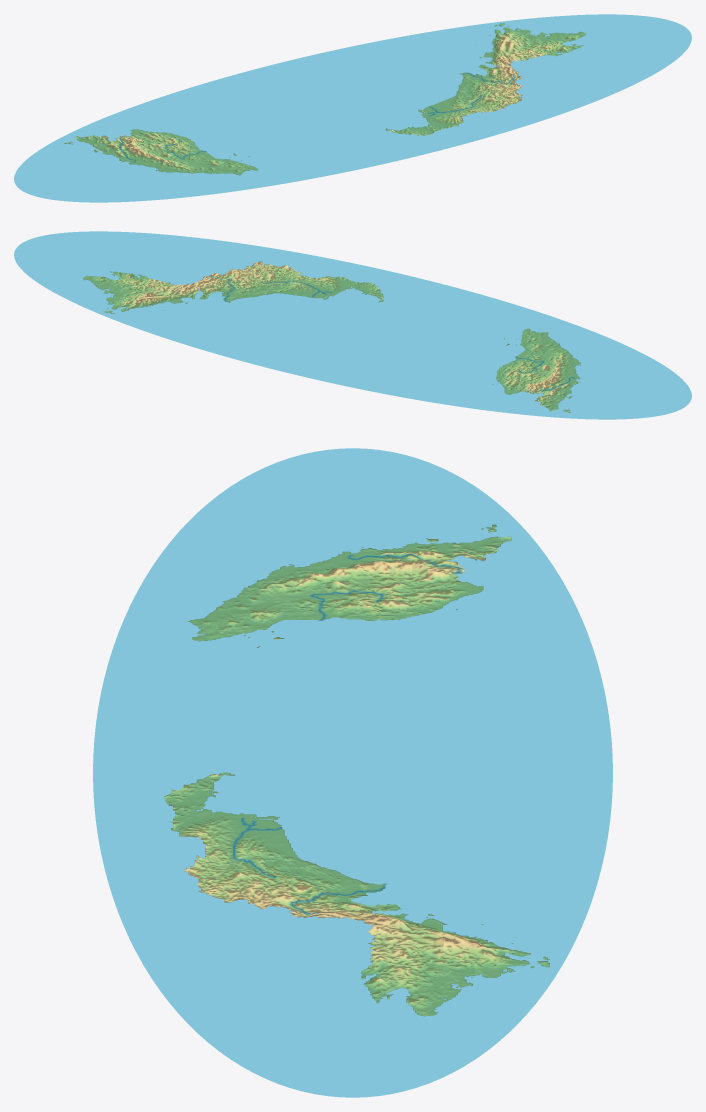
The model's file is MYS-terrain.glb.
3 views of the same model, one above another, from view 1: azimuth 30°, elevation 25°; view 2: azimuth 150°, elevation 25°; view 3: azimuth 270°, elevation 25° (orthographic). The views are drawn at different scales.
Parts seen in each view (by area): view 1: Relevo com hidrografia; view 2: Relevo com hidrografia; view 3: Relevo com hidrografia.
Boxes of the visible parts, x1,y1,x2,y2 form: Relevo com hidrografia: (14, 14, 691, 202); Relevo com hidrografia: (14, 231, 691, 419); Relevo com hidrografia: (93, 448, 612, 1097).
Bounding box in the file's own units: 2.12 × 0.0181 × 0.7186.
2 materials, 1 textured.
